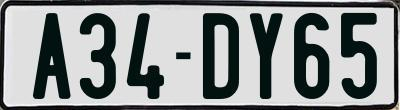3: (80, 13, 121, 101)
4: (124, 11, 167, 101)
5: (338, 10, 375, 102)
6: (291, 10, 327, 99)
A: (31, 12, 74, 98)
D: (203, 12, 243, 99)
Y: (249, 11, 288, 97)
